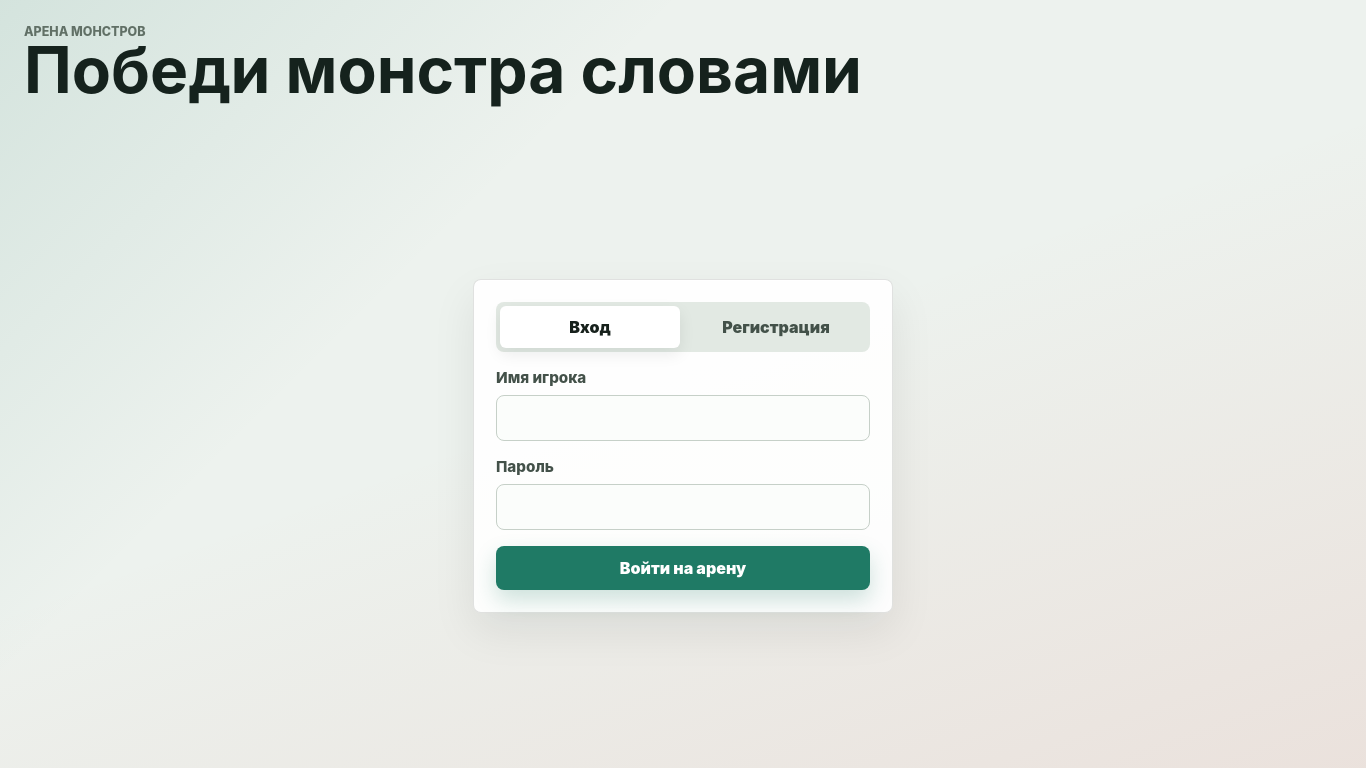
Test case: App API contract behavior › maps registration IP limit errors with the daily limit
The width and height of the screenshot is (1366, 768).
Click the tab "Регистрация". click: [776, 327]
box: [686, 306, 866, 348]
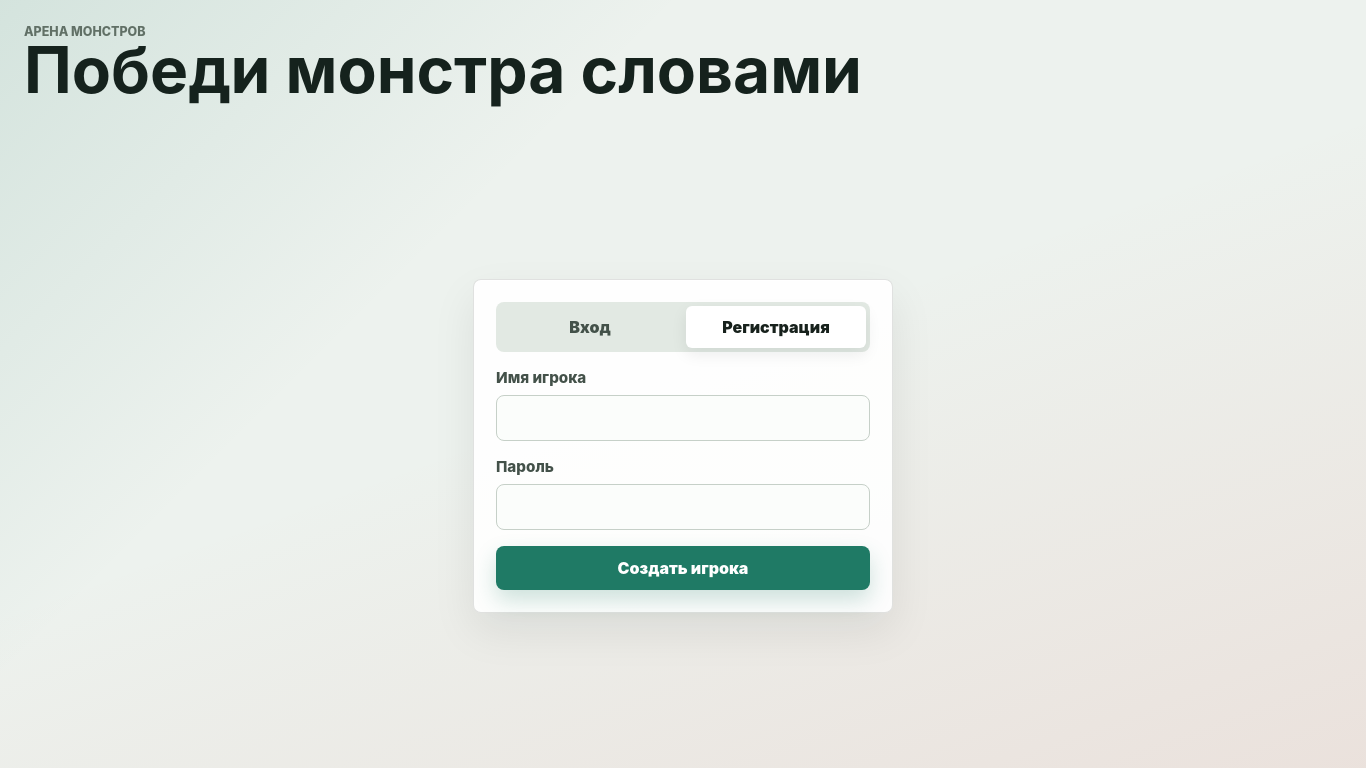
Type "new-player" into the field named "username". click: [683, 418]
box: [496, 395, 870, 441]
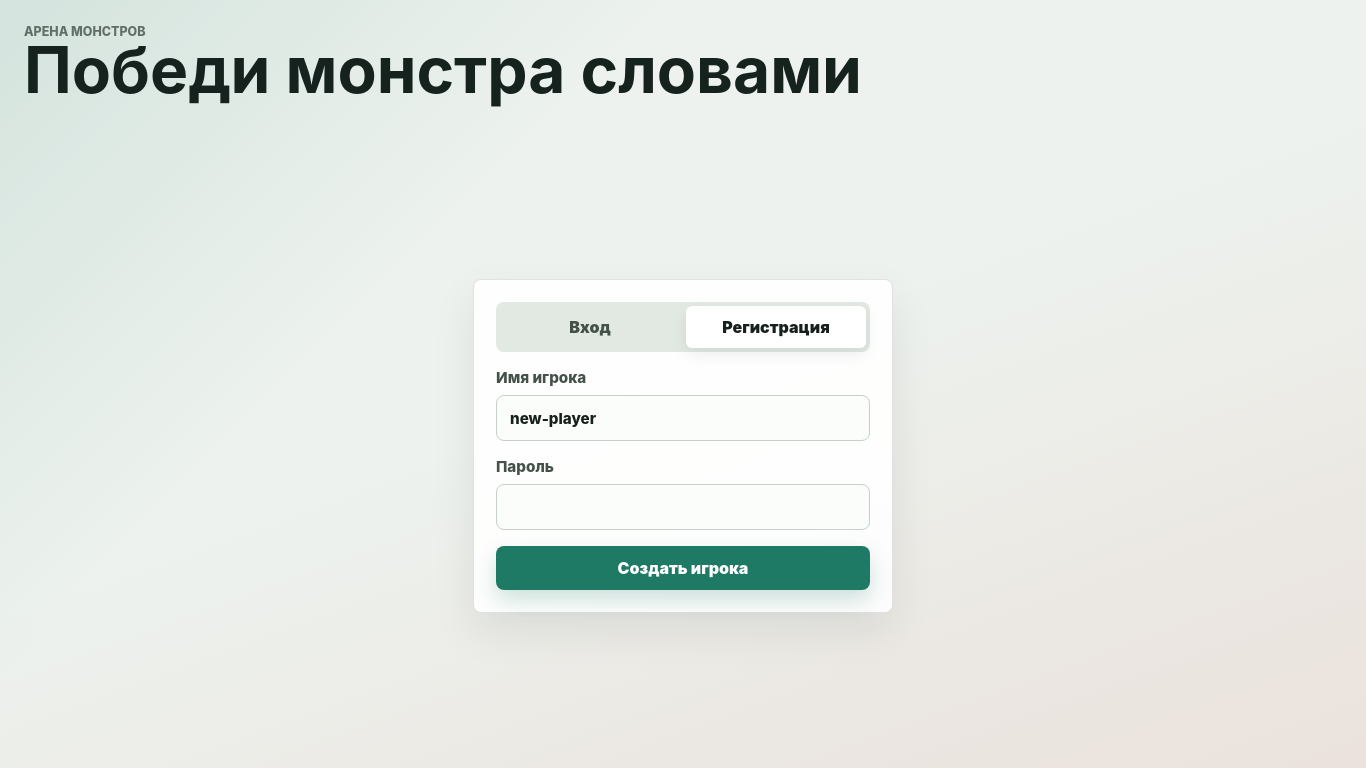
Type "secret123" into the password field named "password". click: [683, 507]
box: [496, 484, 870, 530]
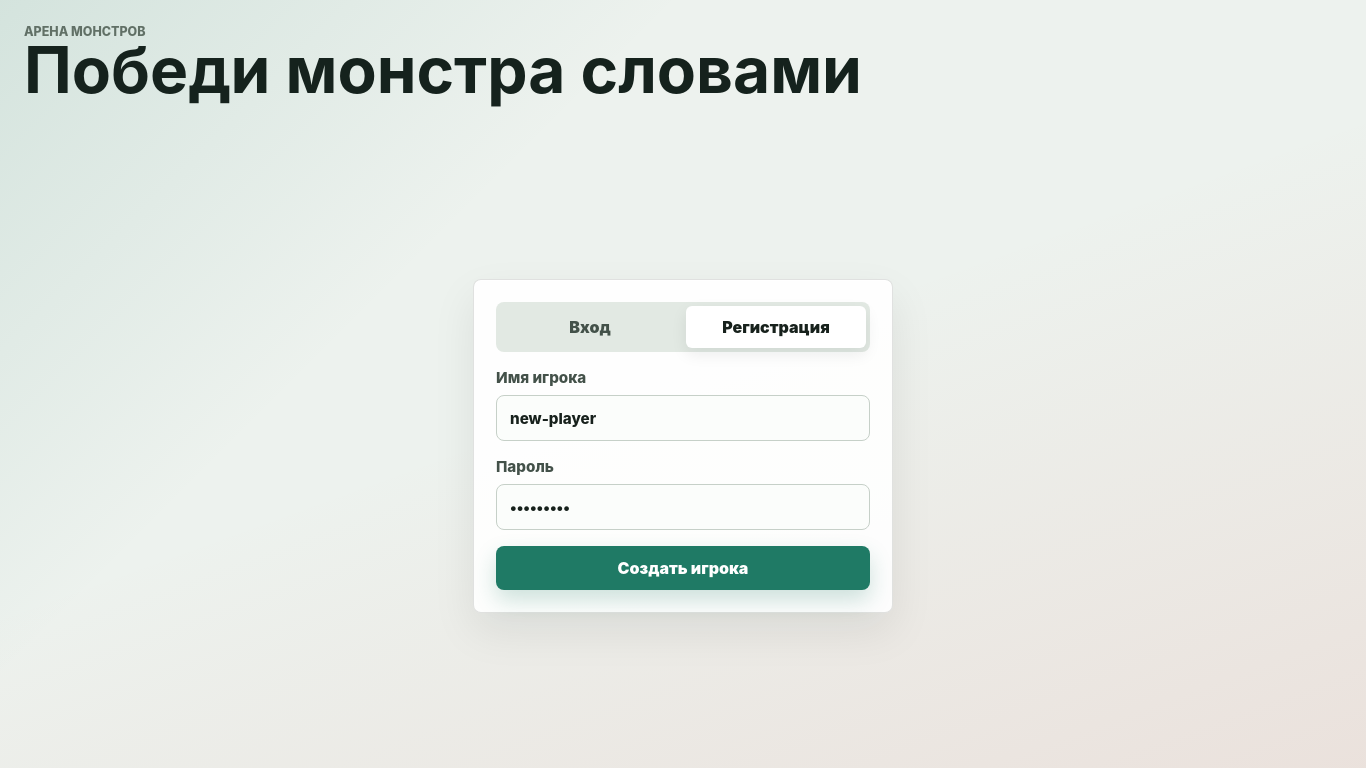
Submit the form with class "auth-panel", box [473, 279, 893, 613]
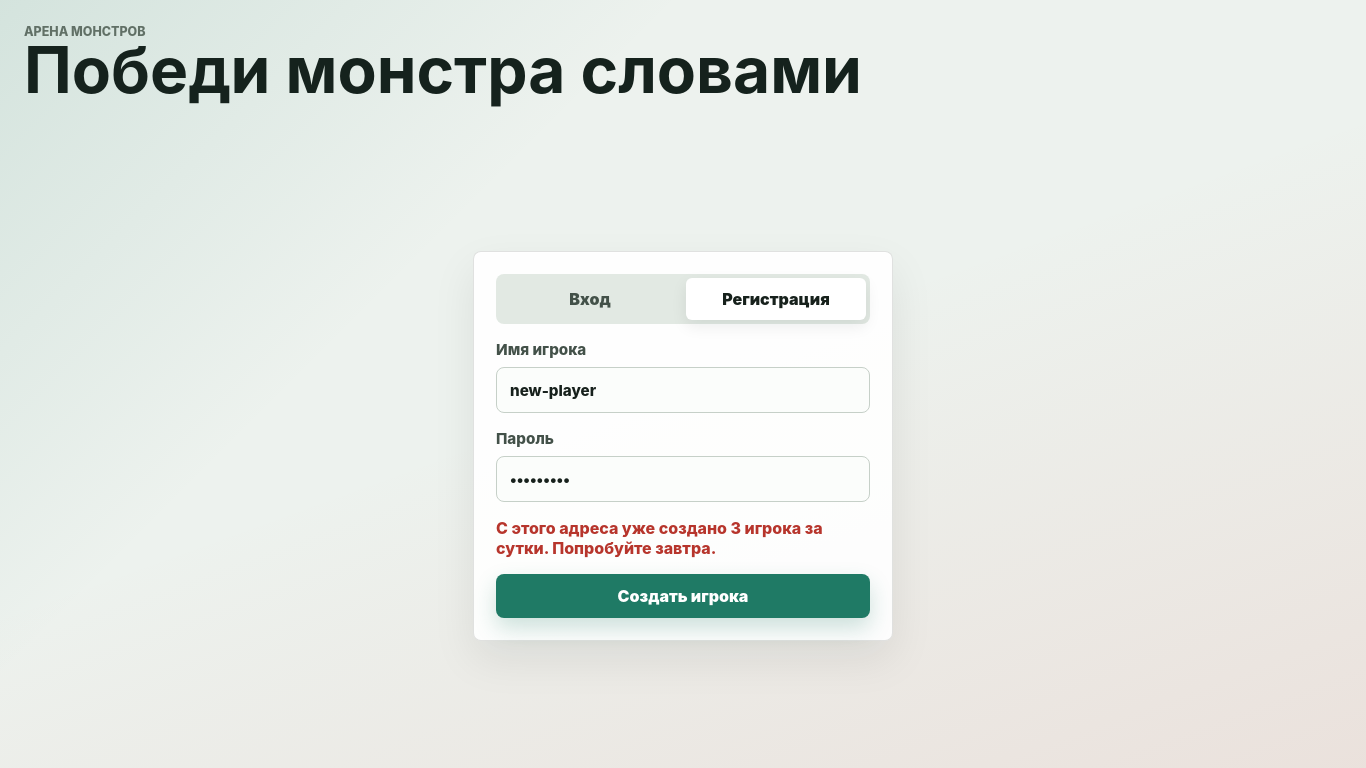
Now the text "С этого адреса уже создано 3 игрока за сутки. Попробуйте завтра." is shown, box [496, 518, 870, 558]
